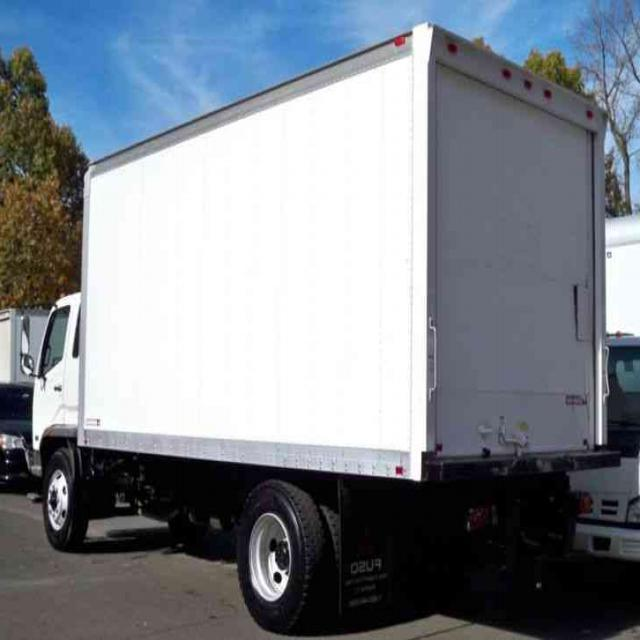truck: (24, 19, 611, 628)
